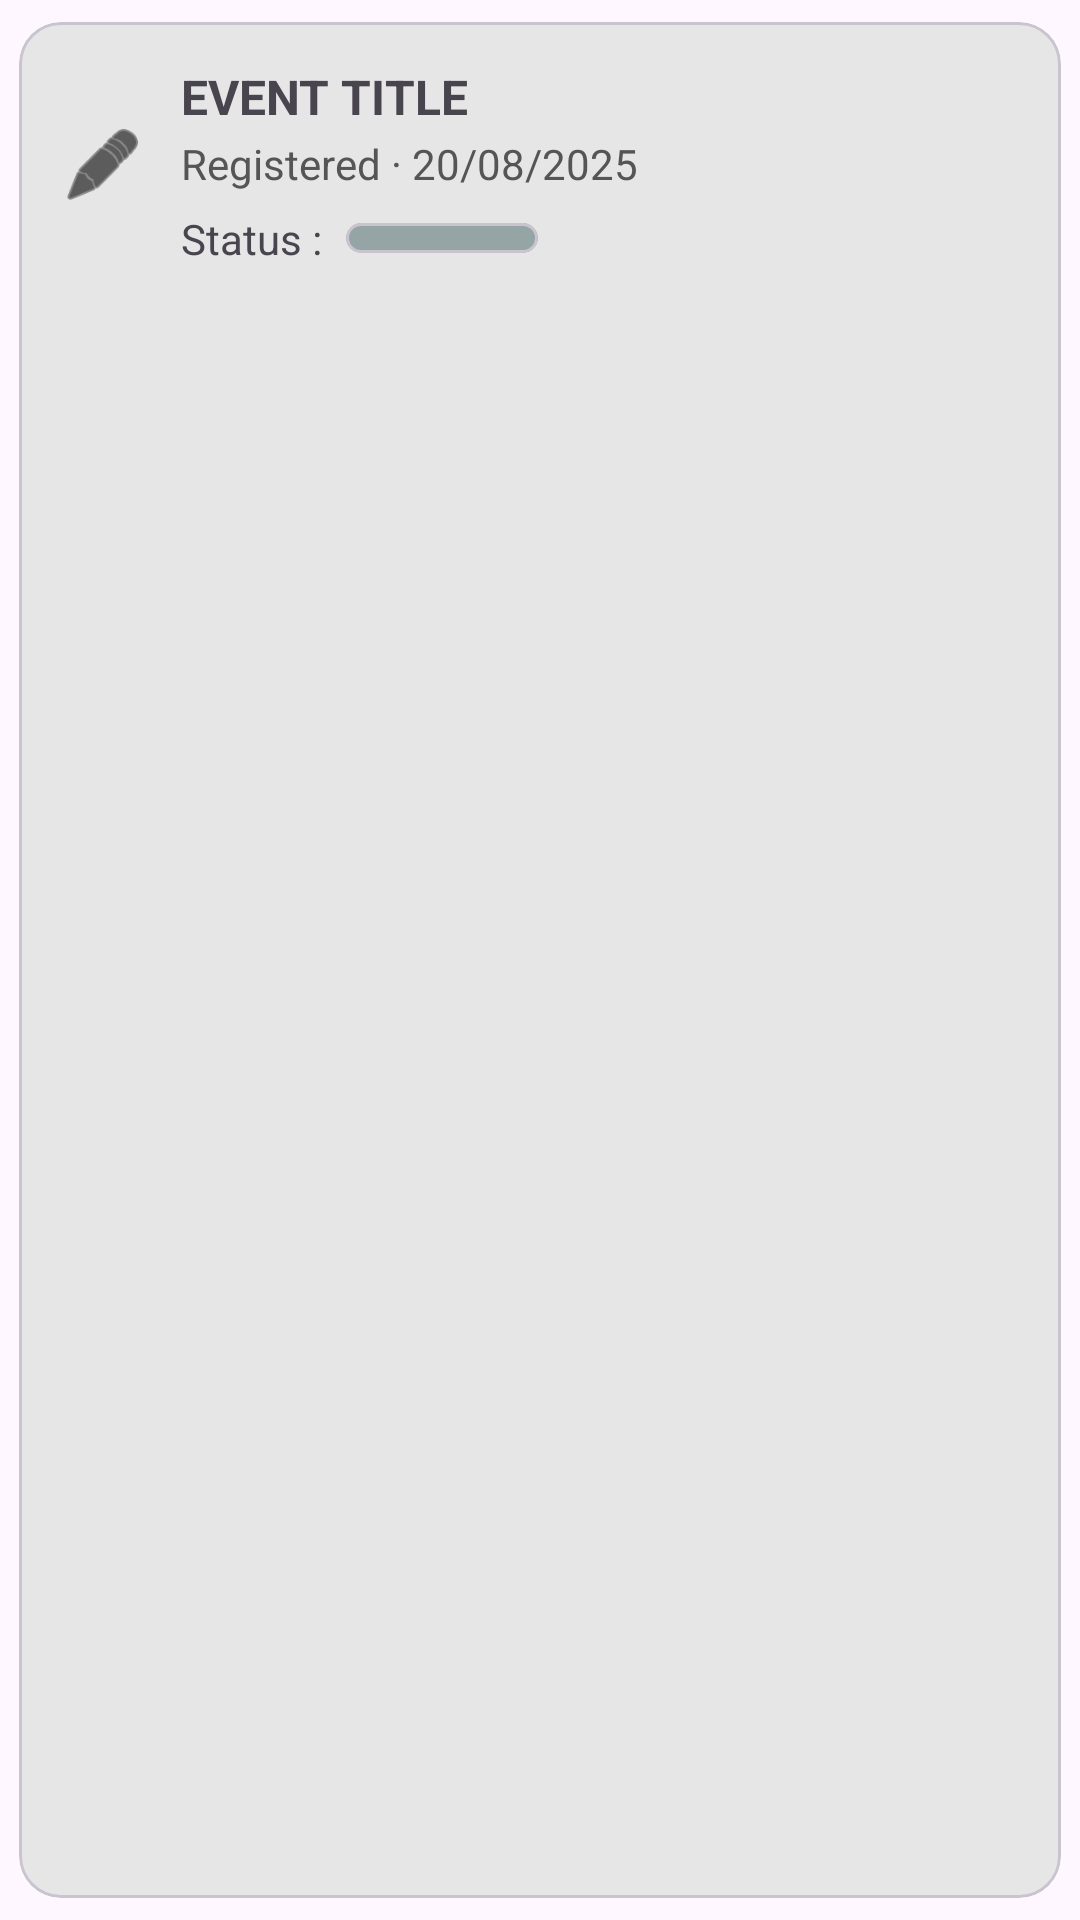

Screen size 1080px x 1920px. Icon name, then its box in pixels as (x1, y1, x2, y2):
edit: (67, 129, 138, 200)
